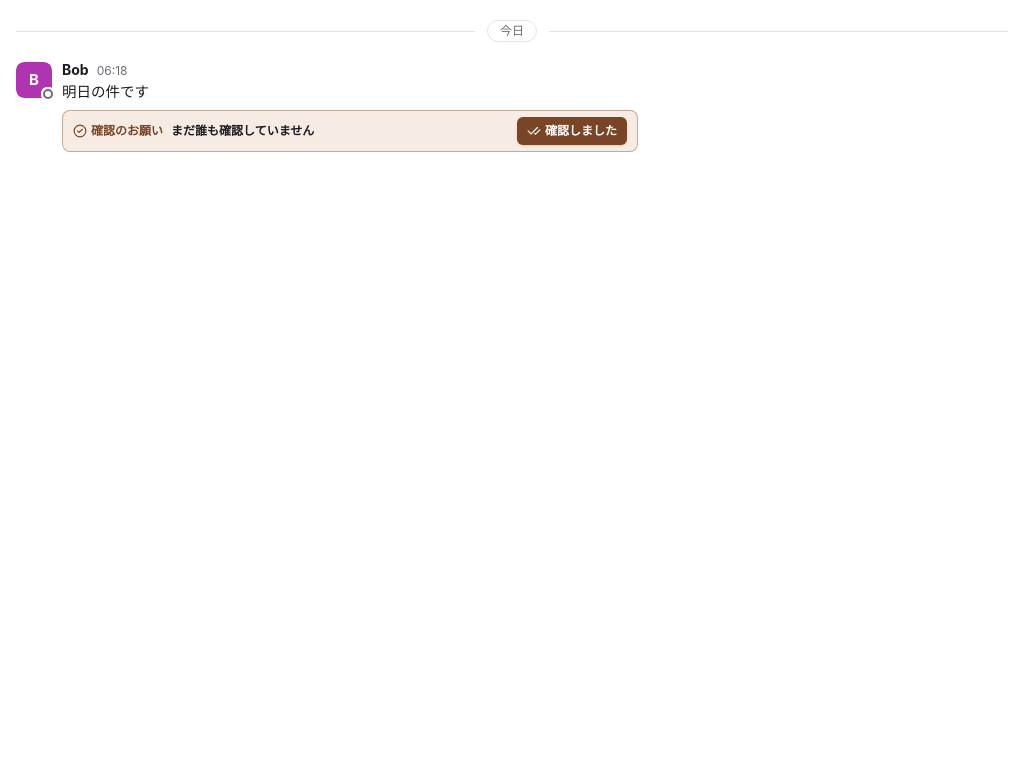
Scenario: 確認のお願い (M27, its own row since 2026-10-05) › 「まだ誰も確認していません」 opens the list too, with who has not confirmed (M31)
This screenshot has width=1024, height=768.
Step 1. Click the button "まだ誰も確認していません" → (243, 131), box [171,123,314,139]
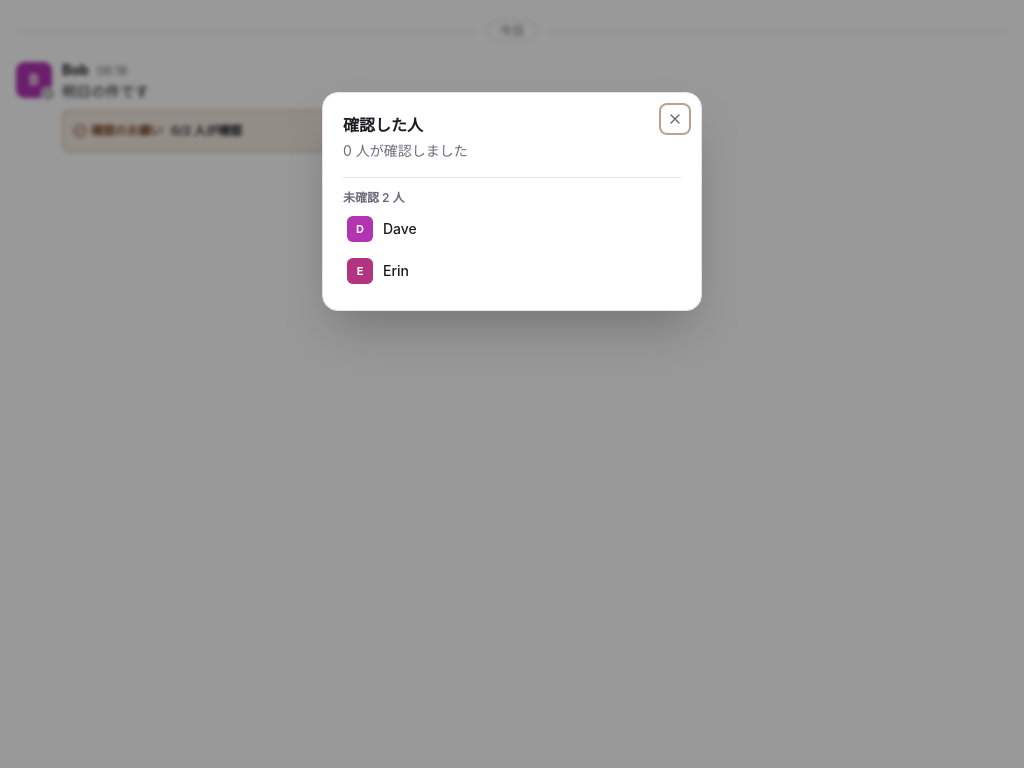
expect the heading "未確認 2 人" is shown: met, box [343,190,404,206]
expect the text "Dave" is shown: met, box [383,220,417,237]
expect the text "Erin" is shown: met, box [383,262,409,279]
